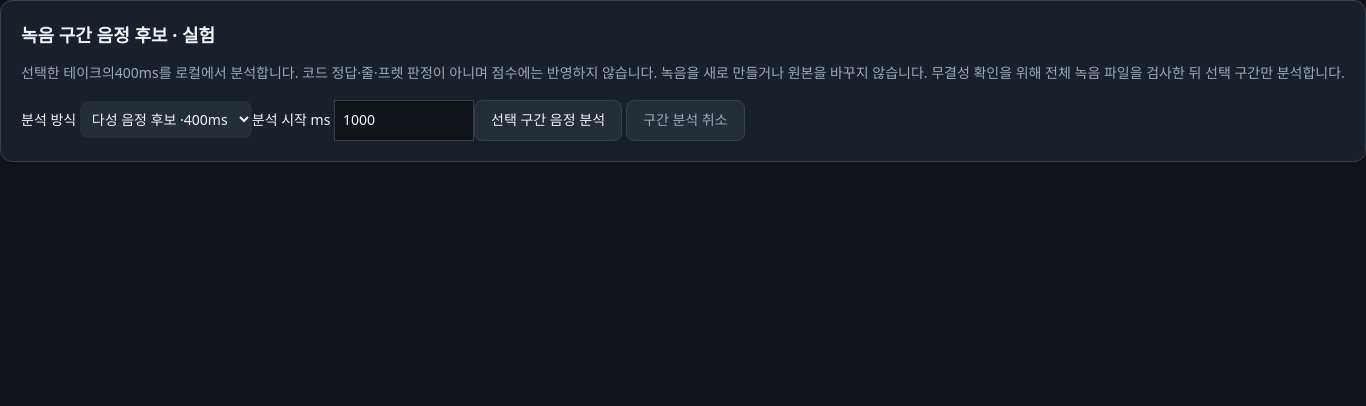
Test: 주기적 변화의 속도와 깊이를 표시하되 주법 확인이나 점수로 표시하지 않는다
The image size is (1366, 406).
Select "단음 음정 변화 ·1초" in the dropdown labelled "분석 방식" at (166, 120), box x1=80 y1=101 x2=252 y2=138
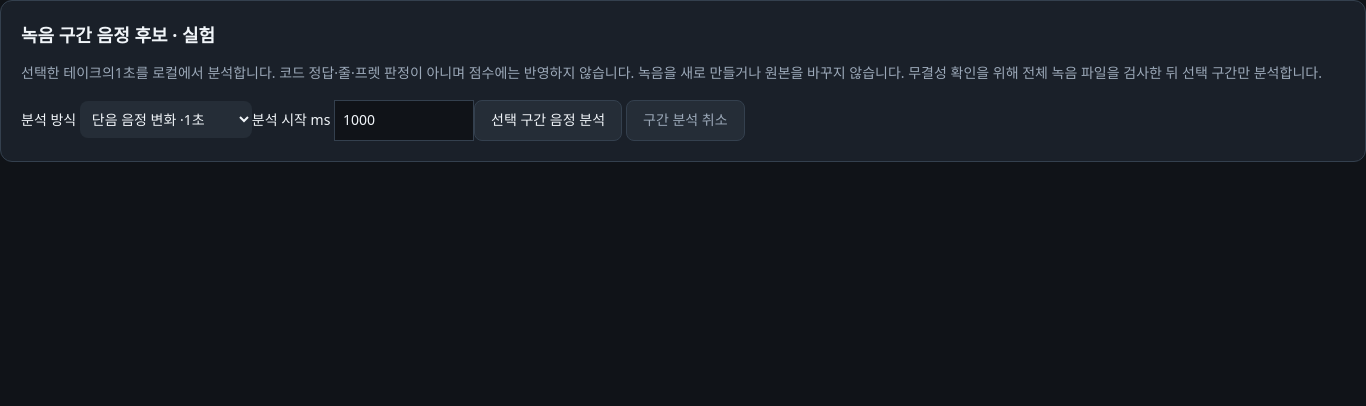
Click the button "선택 구간 음정 분석" at (548, 120), box x1=474 y1=100 x2=622 y2=141
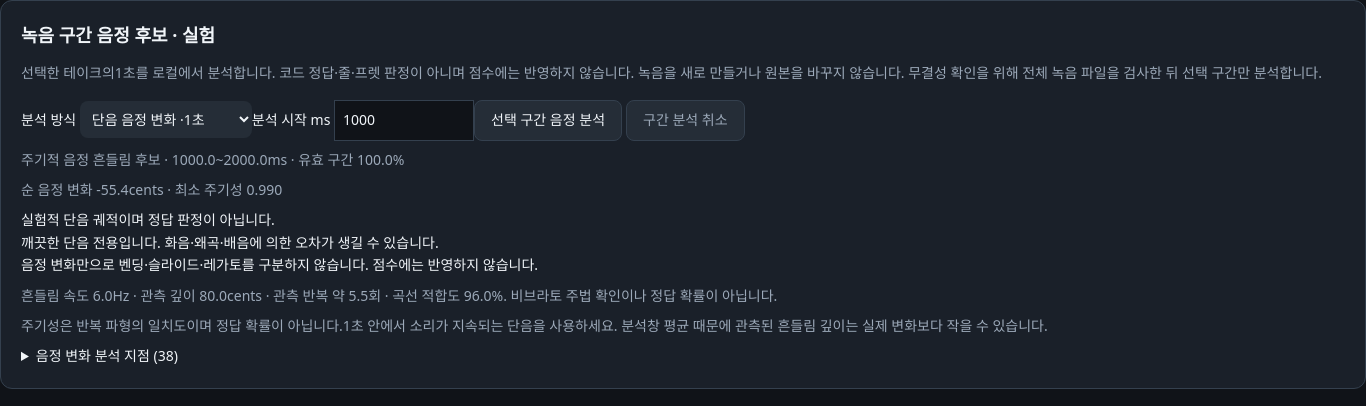
Expected: the text "주기적 음정 흔들림 후보 · 1000.0~2000.0ms · 유효 구간 100.0%" is shown, x1=21 y1=150 x2=404 y2=169
Expected: the text "흔들림 속도 6.0Hz" shows "80.0cents", x1=21 y1=286 x2=777 y2=304
Expected: the text "비브라토 주법 확인이나 정답 확률이 아닙니다" is shown, x1=492 y1=286 x2=777 y2=304
